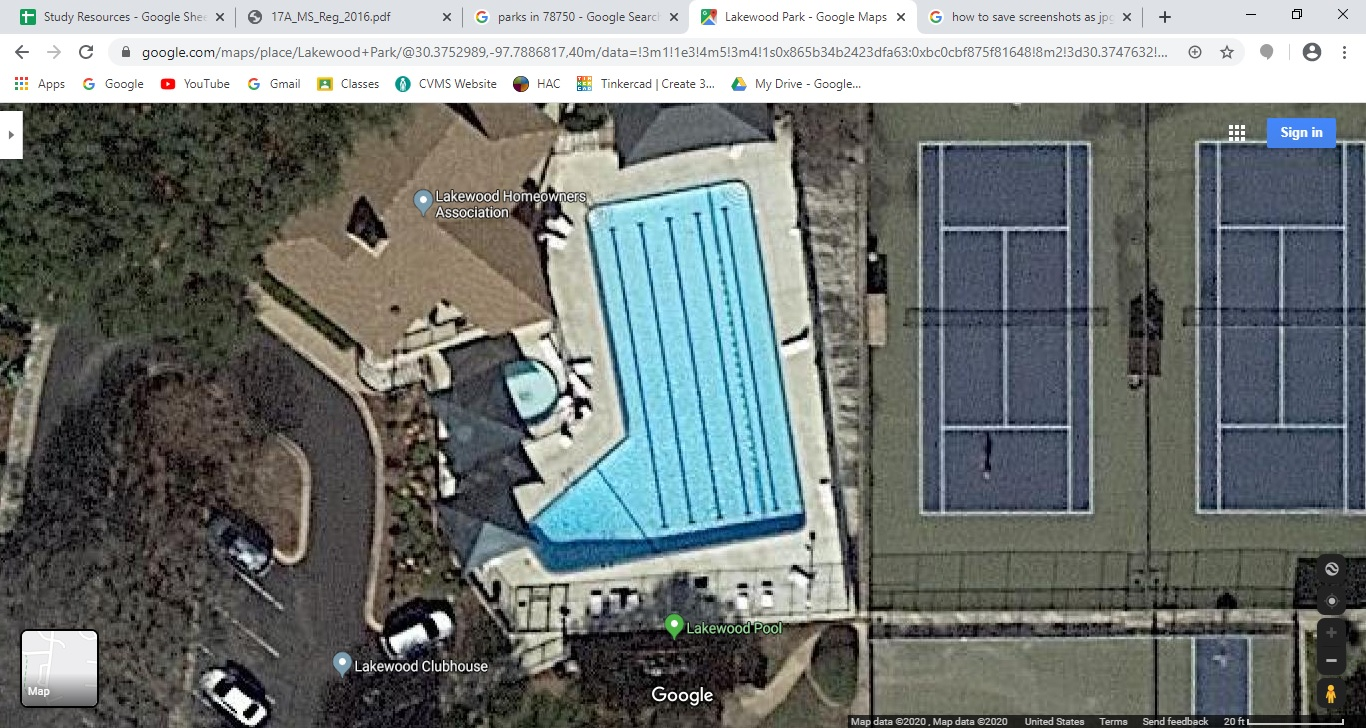pool: (545, 182, 867, 613), (527, 165, 815, 587)
tennis: (908, 121, 1112, 535)
